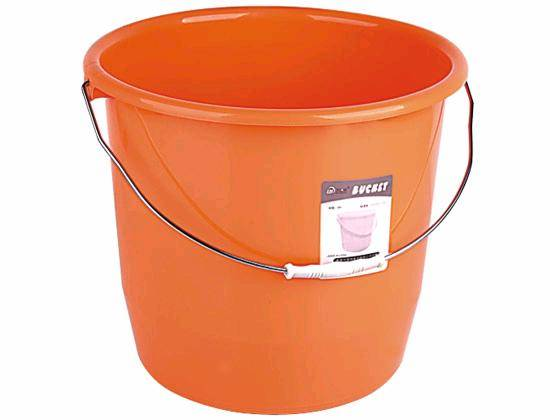Rec_Plastic: (73, 11, 469, 393)
